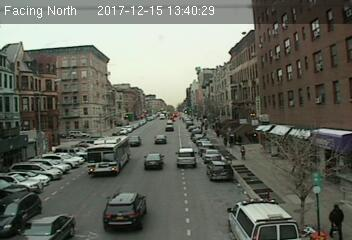bus: (86, 135, 130, 175)
car: (1, 187, 41, 236), (103, 190, 147, 229), (13, 212, 73, 240), (206, 160, 233, 179), (175, 147, 198, 169), (142, 153, 164, 168), (127, 135, 144, 147), (203, 149, 219, 160), (154, 134, 167, 144)
pedestrian: (239, 143, 246, 161)
police: (226, 198, 305, 240)
